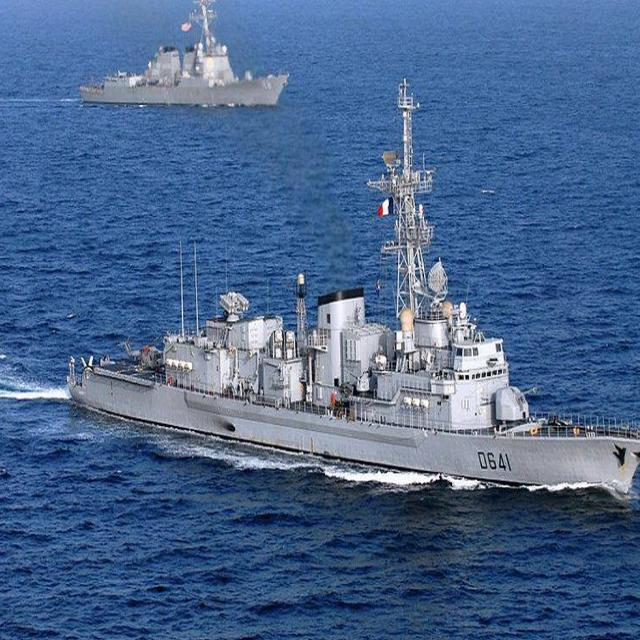navalvessels: (45, 127, 640, 518), (76, 4, 293, 122)
